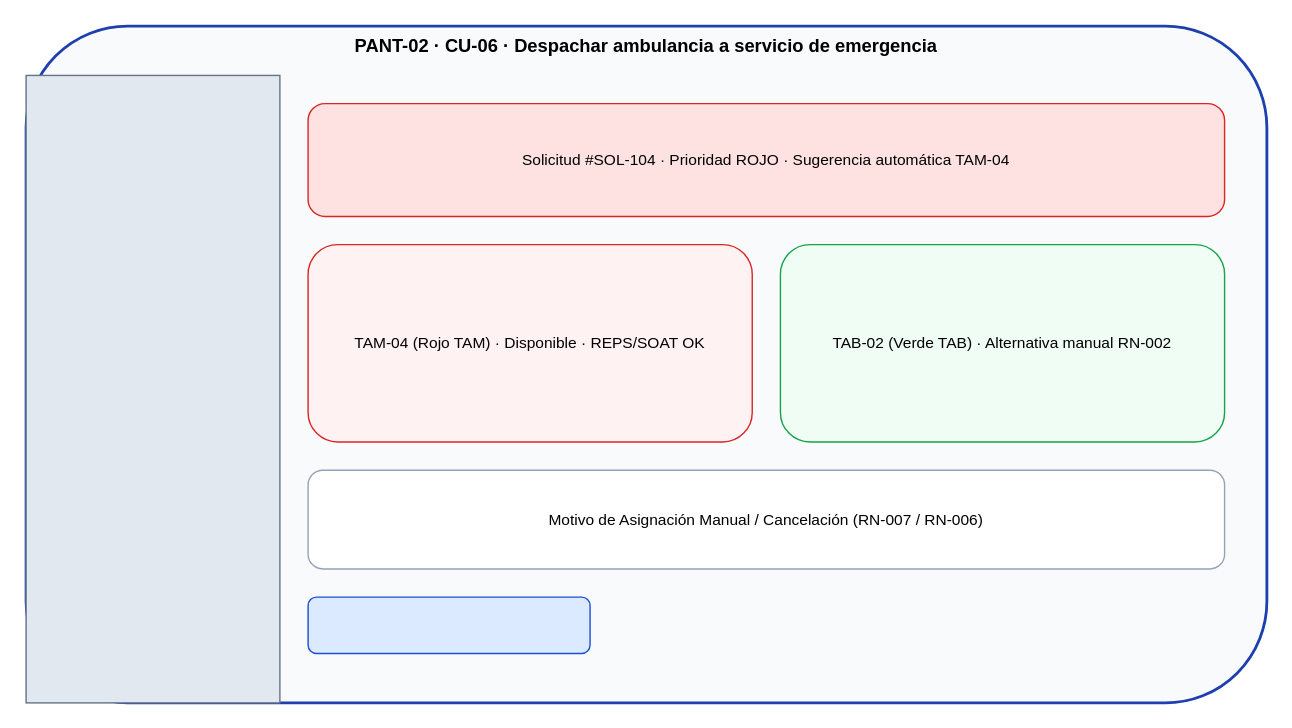
Image size: 1292x728. Some labels were removed from this diagram. The shapes that lost their labels are listed below. From the top down, each one's centre as x and y in pixels, then its label:
At (152,388): "MENÚ RBAC Solicitudes (CU-05) Despacho (CU-06) Atención APH (CU-07)".
At (448,625): "Confirmar Despacho".
